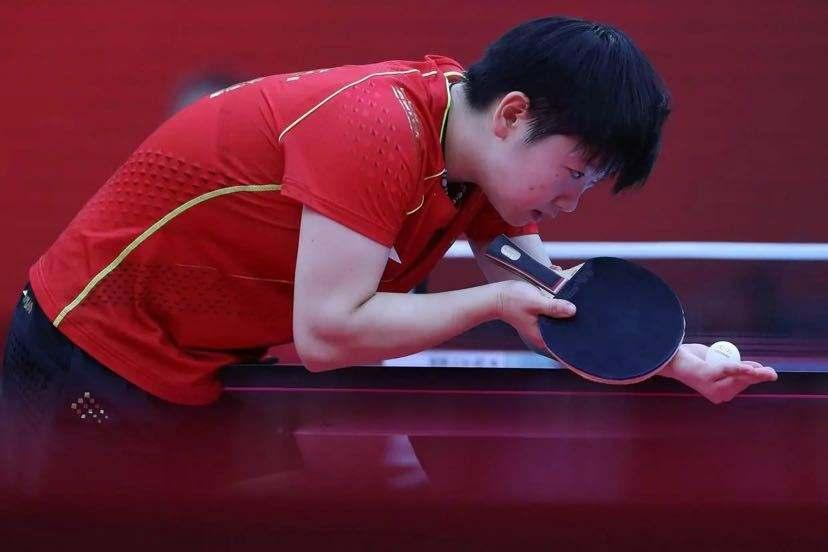ball: (703, 337, 744, 369)
